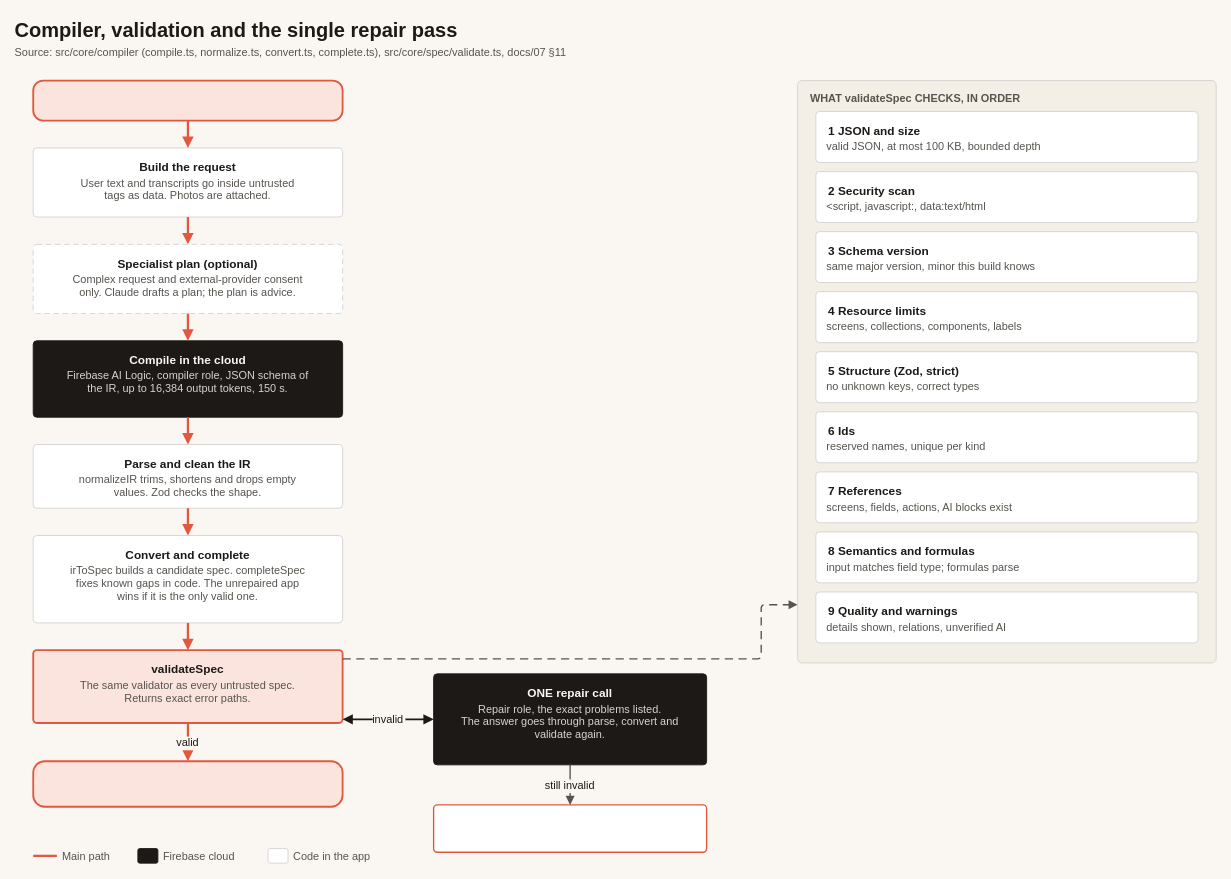
Some shapes in this 1231 by 879 pixel diagram are drawn without their labels. Here are the shapes that lost their labels. From the top down, the centre of each, then its label:
At pixel 187 100: "Normalized input".
At pixel 187 783: "Validated KalamSpec".
At pixel 570 828: "Fail with a plain message".
